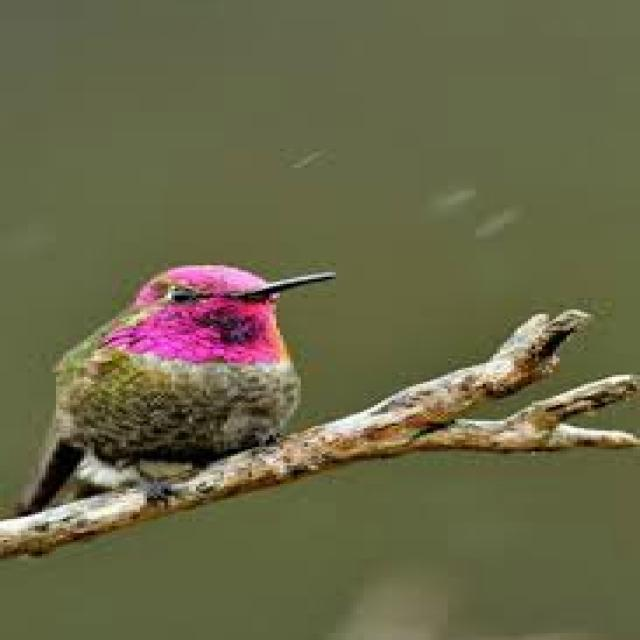hummingbird: (21, 265, 332, 512)
